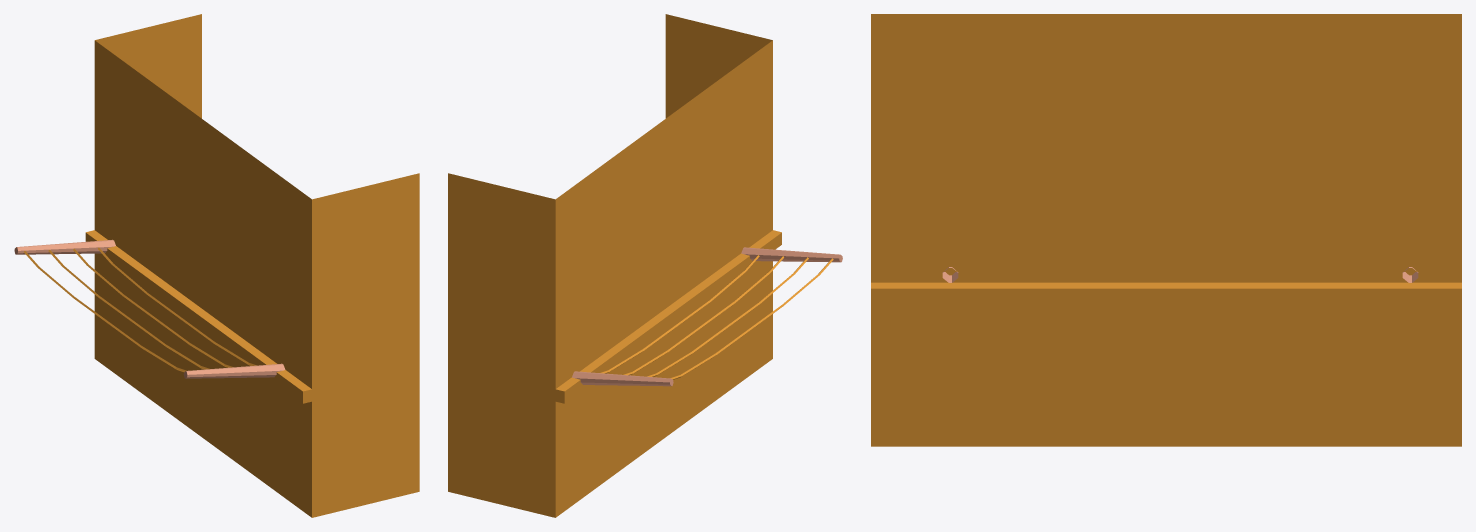
The model's file is balcony 6.fbx.
3 renders of one model, left to right at view 1: azimuth 30°, elevation 25°; view 2: azimuth 150°, elevation 25°; view 3: azimuth 270°, elevation 25°, orthographic. The views are drawn at different scales.
Visible parts, largest first — view 1: balcony.006; view 2: balcony.006; view 3: balcony.006.
Boxes of the visible parts, left/top/right/bottom form: balcony.006: left=14, top=14, right=419, bottom=517; balcony.006: left=448, top=14, right=842, bottom=517; balcony.006: left=871, top=14, right=1461, bottom=446.
Size of the model in its own units: 172 by 255 by 315.
